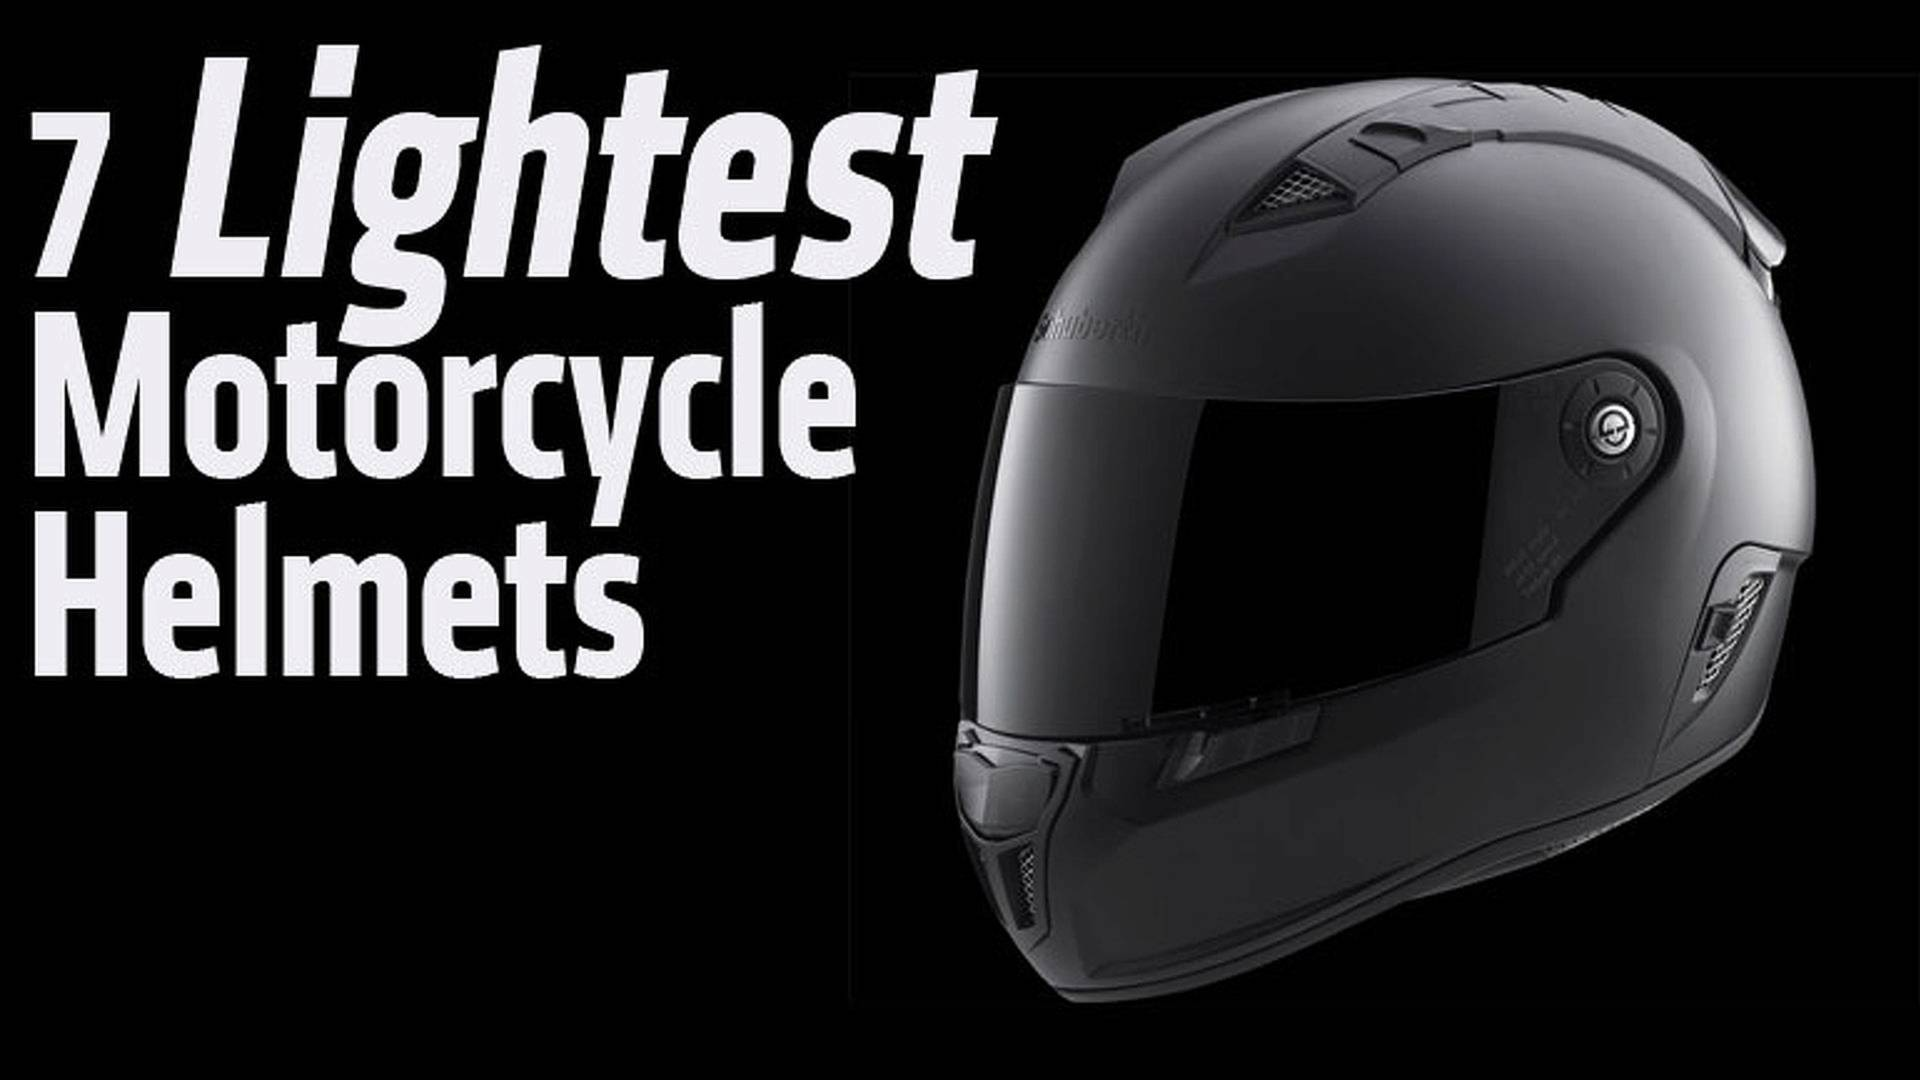with_helmet: (945, 62, 1828, 1029)
